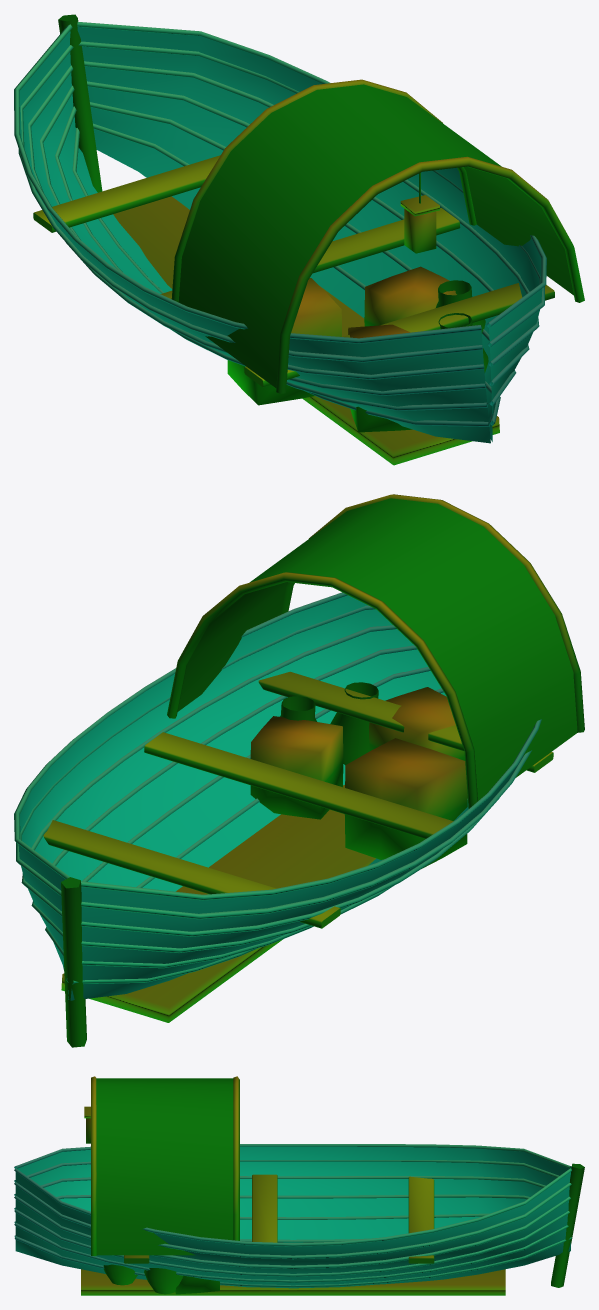
Rendered from vendor_boat.glb.
The picture shows the model from 3 angles, top to bottom: view 1: azimuth 30°, elevation 25°; view 2: azimuth 150°, elevation 25°; view 3: azimuth 270°, elevation 25°; orthographic projection. The views are drawn at different scales.
Visible parts, largest first — view 1: vendor_boat; view 2: vendor_boat; view 3: vendor_boat.
Boxes of the visible parts, x1,y1,x2,y2 form: vendor_boat: (14, 14, 584, 465); vendor_boat: (14, 494, 584, 1047); vendor_boat: (14, 1076, 584, 1295).
Size of what is drawn, in the model's own units: 1.92 by 1.53 by 4.01.
